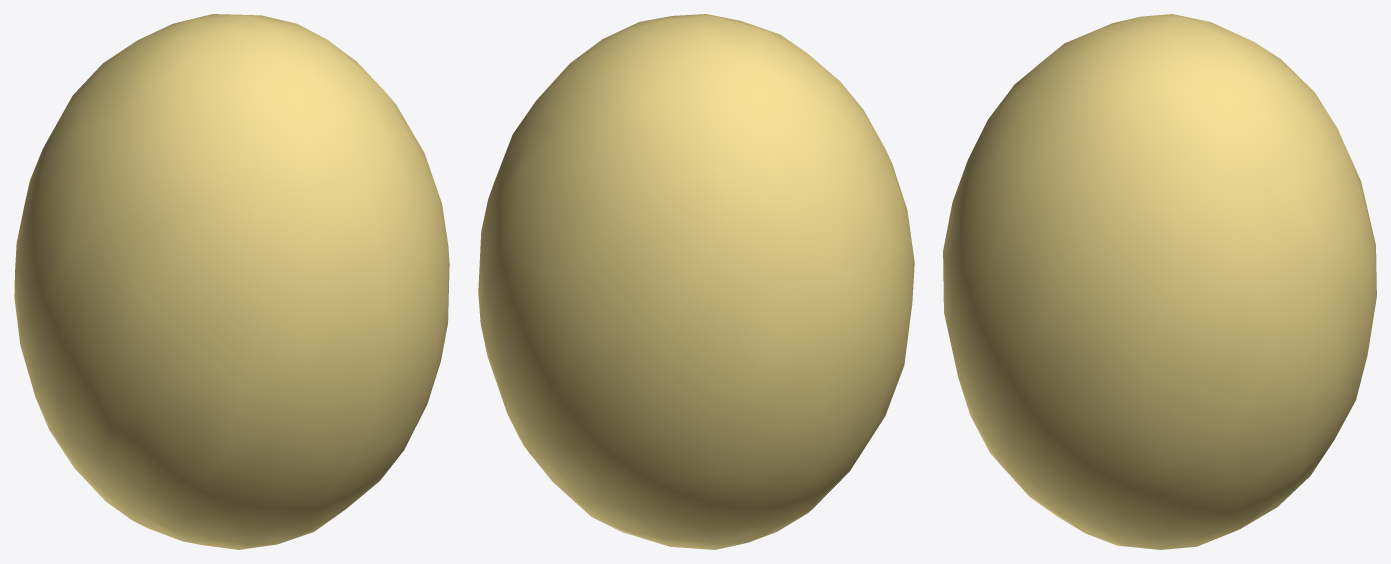
The model's file is fma73685_mm2478m.glb.
3 renders of one model, left to right at view 1: azimuth 30°, elevation 25°; view 2: azimuth 150°, elevation 25°; view 3: azimuth 270°, elevation 25°, orthographic.
Visible parts, largest first — view 1: FMA73685_MM2478M; view 2: FMA73685_MM2478M; view 3: FMA73685_MM2478M.
Boxes of the visible parts, left/top/right/bottom form: FMA73685_MM2478M: left=14, top=14, right=449, bottom=549; FMA73685_MM2478M: left=478, top=14, right=914, bottom=549; FMA73685_MM2478M: left=943, top=14, right=1376, bottom=549.
Bounding box in the file's own units: 0.00315 × 0.004 × 0.00314.
